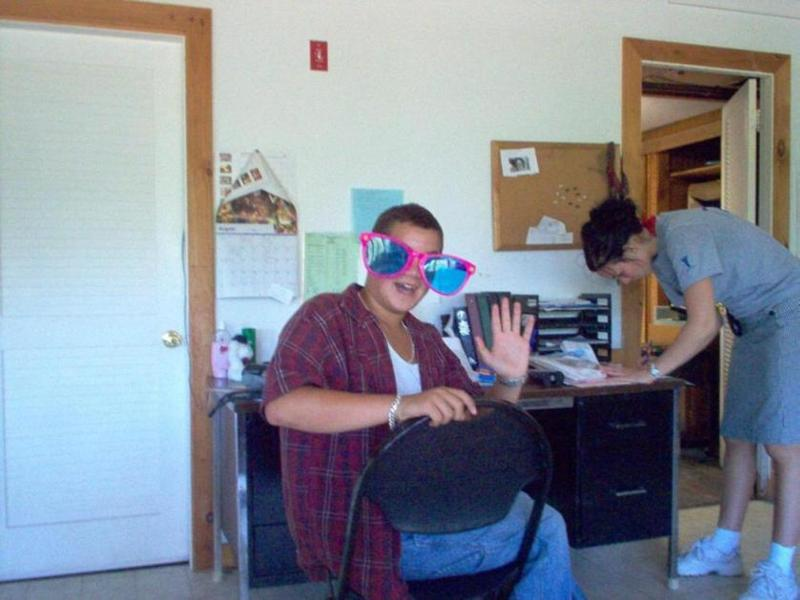person: (261, 205, 586, 600)
